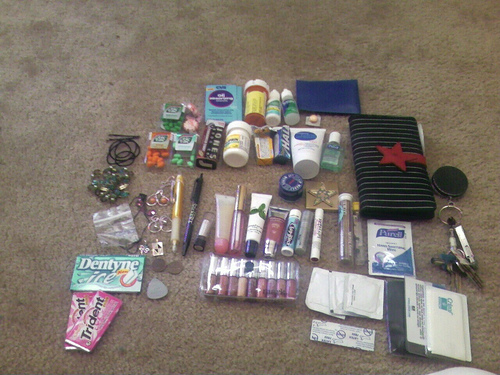pill bottle: (241, 78, 270, 126)
